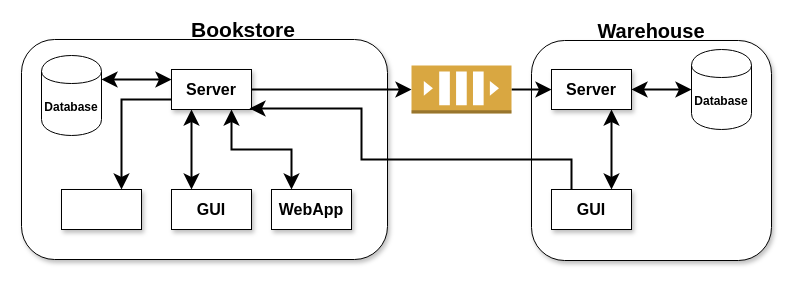
The diagram is 795 pixels wide and 285 high, and some of its shapes have lost their labels. The shapes that lost their labels are listed below. From the top down, each one's centre as x and y in pixels, then its label:
At [461,89]: "Rabbit MQ".
At [102,210]: "Printer".
